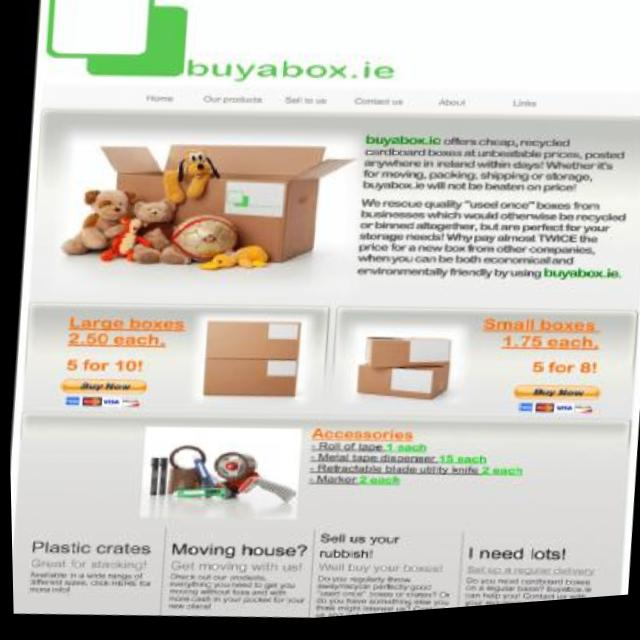box: (82, 131, 352, 308), (187, 311, 309, 415), (332, 357, 458, 418), (350, 331, 456, 386)
